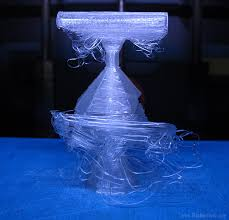fail: (39, 108, 208, 203), (60, 26, 105, 69), (127, 30, 168, 60)
